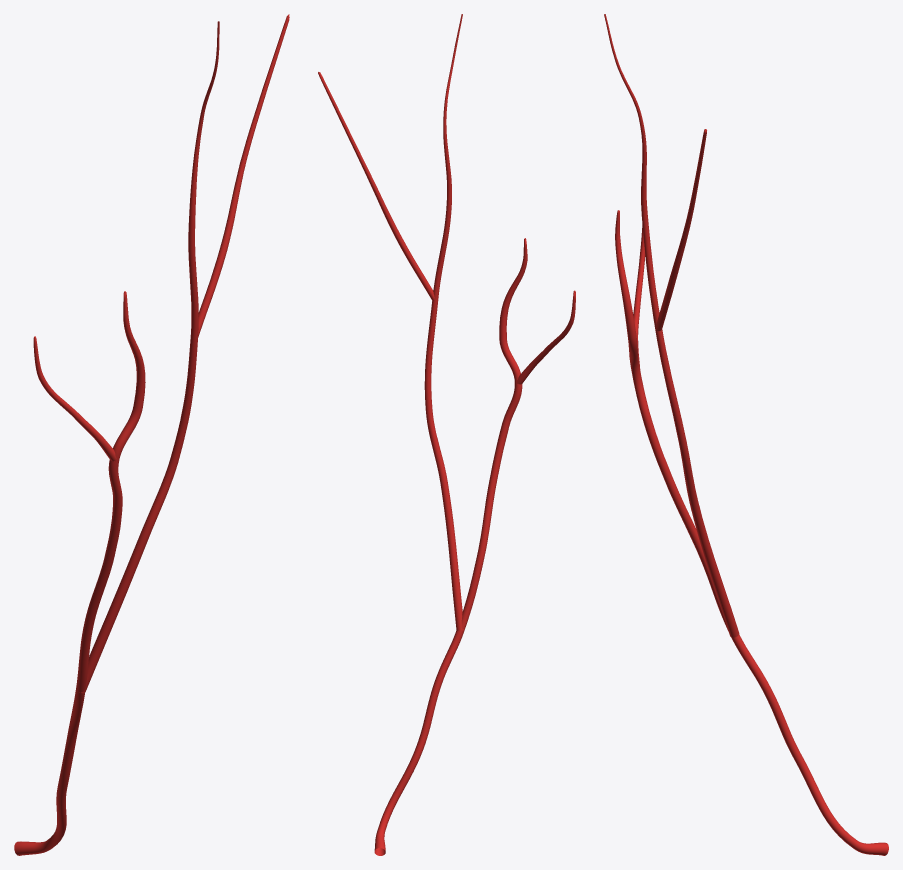
Rendered from circulatorio-superficial-epigastric-vein-l.glb.
3 views of the same model, side by side, from view 1: azimuth 30°, elevation 25°; view 2: azimuth 150°, elevation 25°; view 3: azimuth 270°, elevation 25° (orthographic). The views are drawn at different scales.
Parts seen in each view (by area): view 1: Superficial epigastric vein.l; view 2: Superficial epigastric vein.l; view 3: Superficial epigastric vein.l.
Part boxes in pixels (x1,y1,x2,y2): Superficial epigastric vein.l: [14, 14, 289, 855]; Superficial epigastric vein.l: [318, 14, 575, 855]; Superficial epigastric vein.l: [604, 14, 888, 855].
Bounding box in the file's own units: 0.0693 × 0.2136 × 0.0639.
